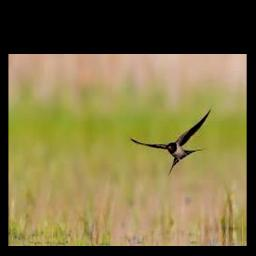Swallow: (129, 109, 210, 173)
